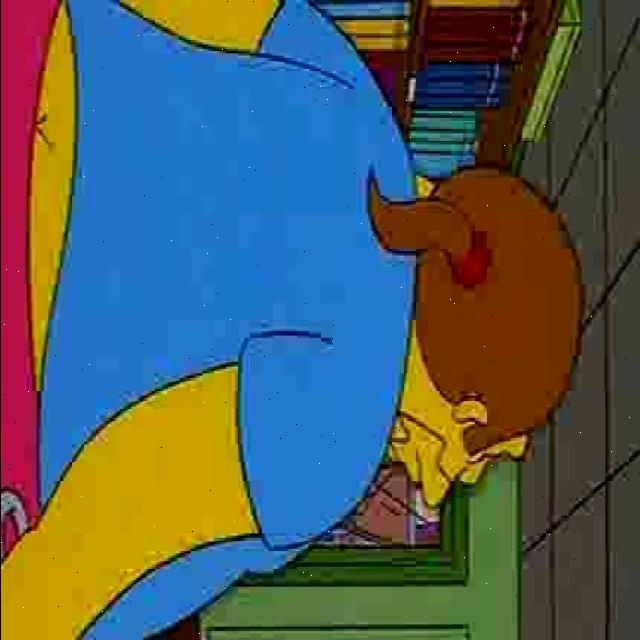Comic Book Guy: (372, 156, 586, 514)
